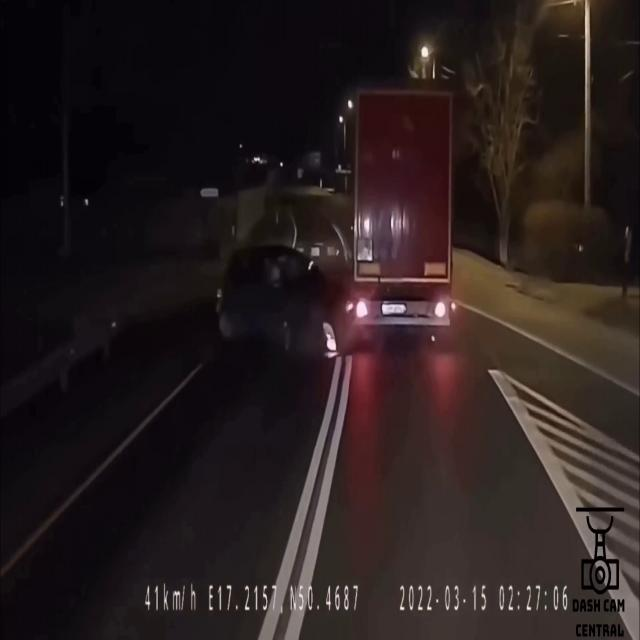accident: (213, 175, 452, 362)
